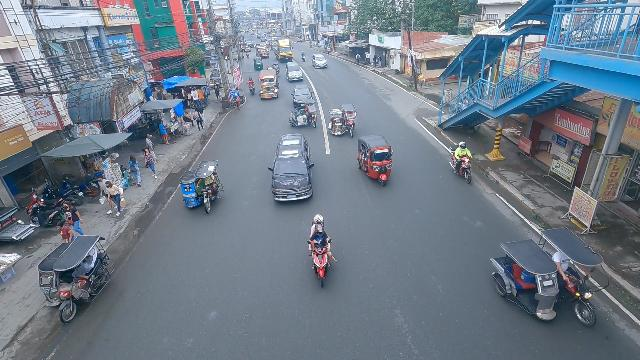car: (292, 84, 314, 107), (285, 62, 304, 82), (311, 53, 328, 70)
jeepney: (257, 68, 279, 100), (255, 44, 270, 59)
motorcycle: (307, 213, 334, 290), (449, 142, 476, 184), (246, 77, 257, 96), (301, 49, 306, 61)
truck: (274, 39, 293, 63)
van: (268, 132, 315, 204)
